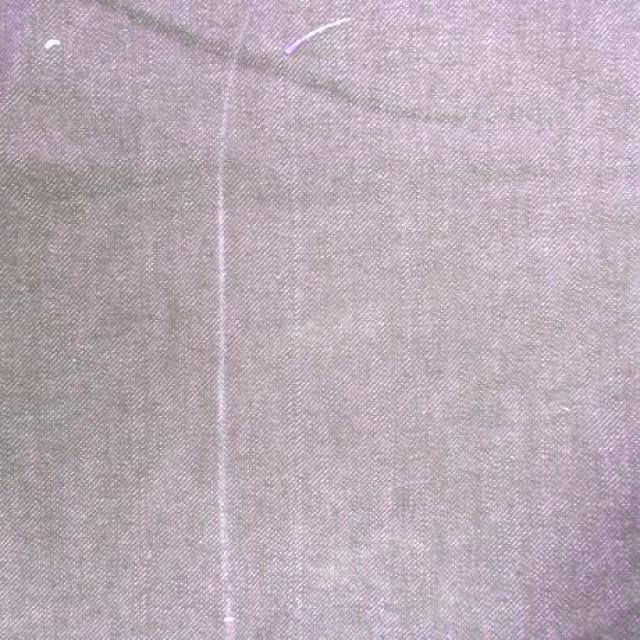stains: (254, 8, 404, 640)
